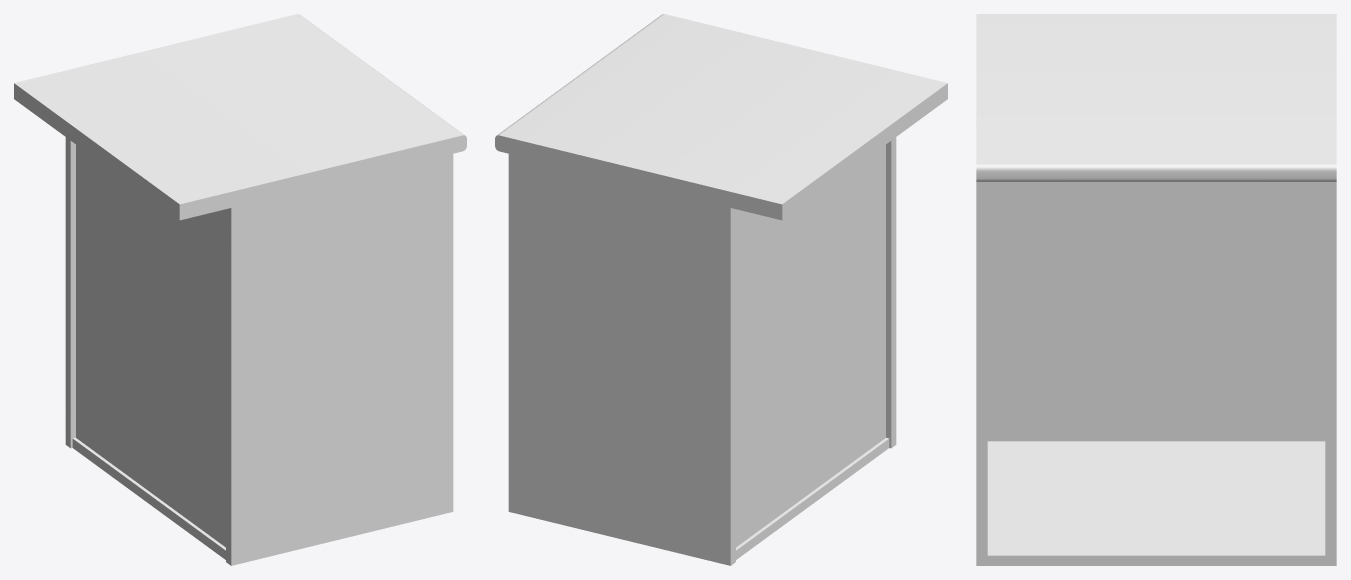
File: corpus_bottom_60.glb
3 views of the same model, side by side, from view 1: azimuth 30°, elevation 25°; view 2: azimuth 150°, elevation 25°; view 3: azimuth 270°, elevation 25° (orthographic). The views are drawn at different scales.
Visible parts, largest first — view 1: corpus_bottom_60; view 2: corpus_bottom_60; view 3: corpus_bottom_60.
Part boxes in pixels (x1,y1,x2,y2): corpus_bottom_60: (14, 14, 466, 565); corpus_bottom_60: (495, 14, 947, 565); corpus_bottom_60: (976, 14, 1336, 565).
Bounding box in the file's own units: 0.6 × 0.747 × 0.6.
1 material, 1 textured.
